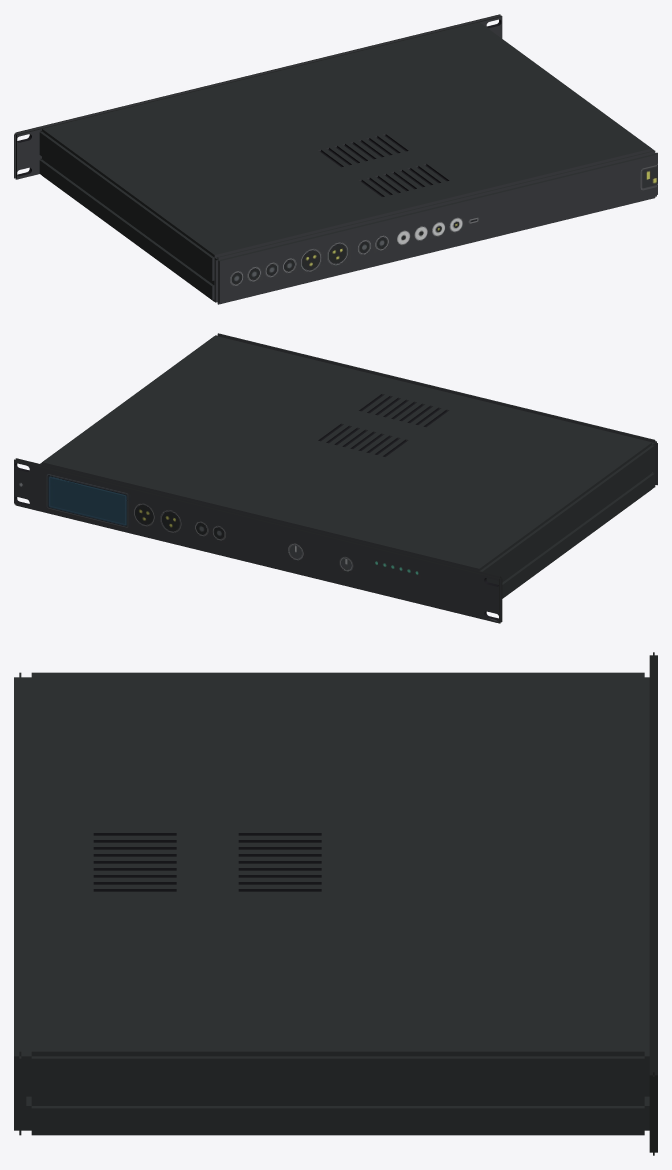
The model's file is motu-828.glb.
The picture shows the model from 3 angles, top to bottom: view 1: azimuth 30°, elevation 25°; view 2: azimuth 150°, elevation 25°; view 3: azimuth 270°, elevation 25°; orthographic projection. The views are drawn at different scales.
Parts seen in each view (by area): view 1: motu-828-body; view 2: motu-828-body; view 3: motu-828-body.
Part boxes in pixels (<box>): motu-828-body: <box>14,14,657,304</box>; motu-828-body: <box>14,333,657,623</box>; motu-828-body: <box>14,652,657,1155</box>.
Size of the model in its own units: 0.483 by 0.0445 by 0.311.
1 material, 1 textured.
